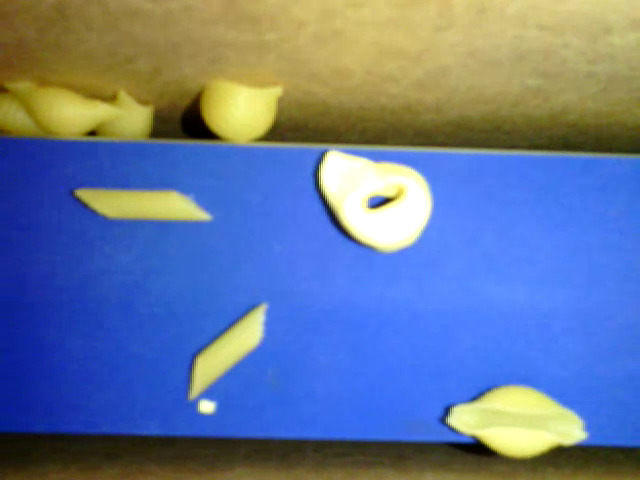penne: (189, 300, 266, 400), (73, 183, 215, 222)
shell: (441, 383, 589, 458), (1, 77, 119, 139), (197, 76, 283, 143), (87, 89, 156, 140), (1, 94, 51, 141)
tortellini: (313, 148, 435, 255)
